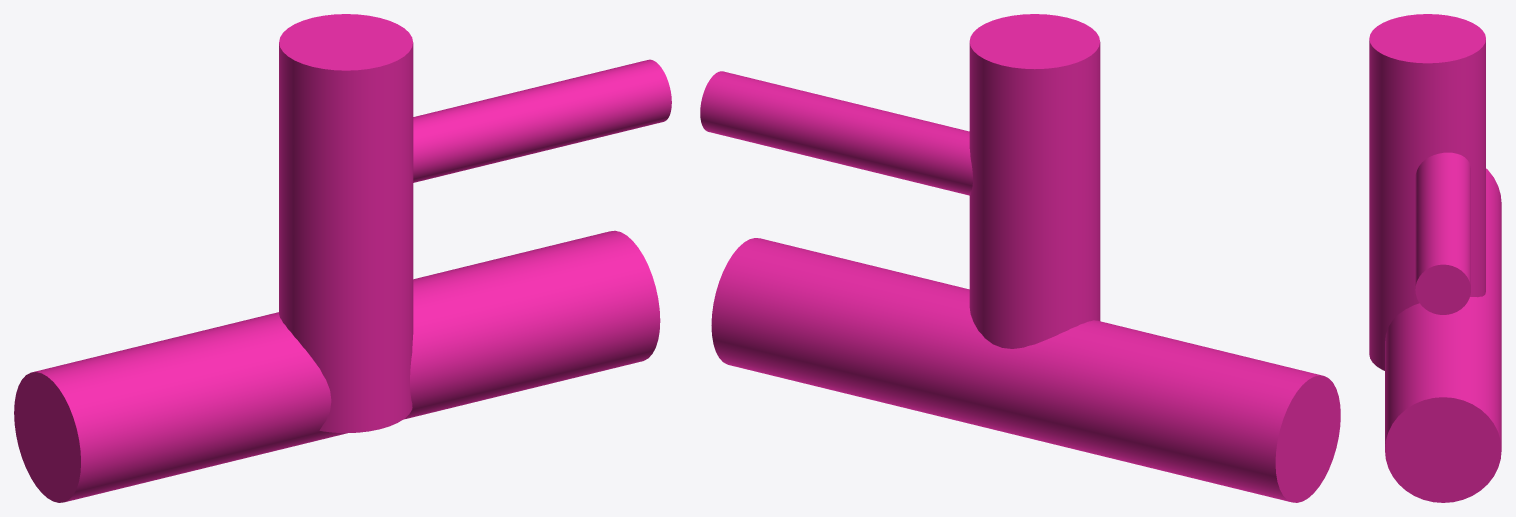
The model's file is pipe2.fbx.
The picture shows the model from 3 angles, left to right: view 1: azimuth 30°, elevation 25°; view 2: azimuth 150°, elevation 25°; view 3: azimuth 270°, elevation 25°; orthographic projection. The views are drawn at different scales.
Parts seen in each view (by area): view 1: Oil_Tank, Oil_Tank_1, Oil_Tank_2; view 2: Oil_Tank, Oil_Tank_1, Oil_Tank_2; view 3: Oil_Tank_1, Oil_Tank, Oil_Tank_2.
Part boxes in pixels (x1,y1,x2,y2): Oil_Tank: [14, 230, 660, 502]; Oil_Tank_1: [279, 14, 413, 433]; Oil_Tank_2: [413, 59, 671, 182]; Oil_Tank: [711, 238, 1340, 502]; Oil_Tank_1: [969, 14, 1100, 348]; Oil_Tank_2: [700, 71, 972, 195]; Oil_Tank_1: [1369, 14, 1485, 370]; Oil_Tank: [1385, 168, 1501, 502]; Oil_Tank_2: [1415, 152, 1470, 314].
Bounding box in the file's own units: 2635 × 1622 × 570.
